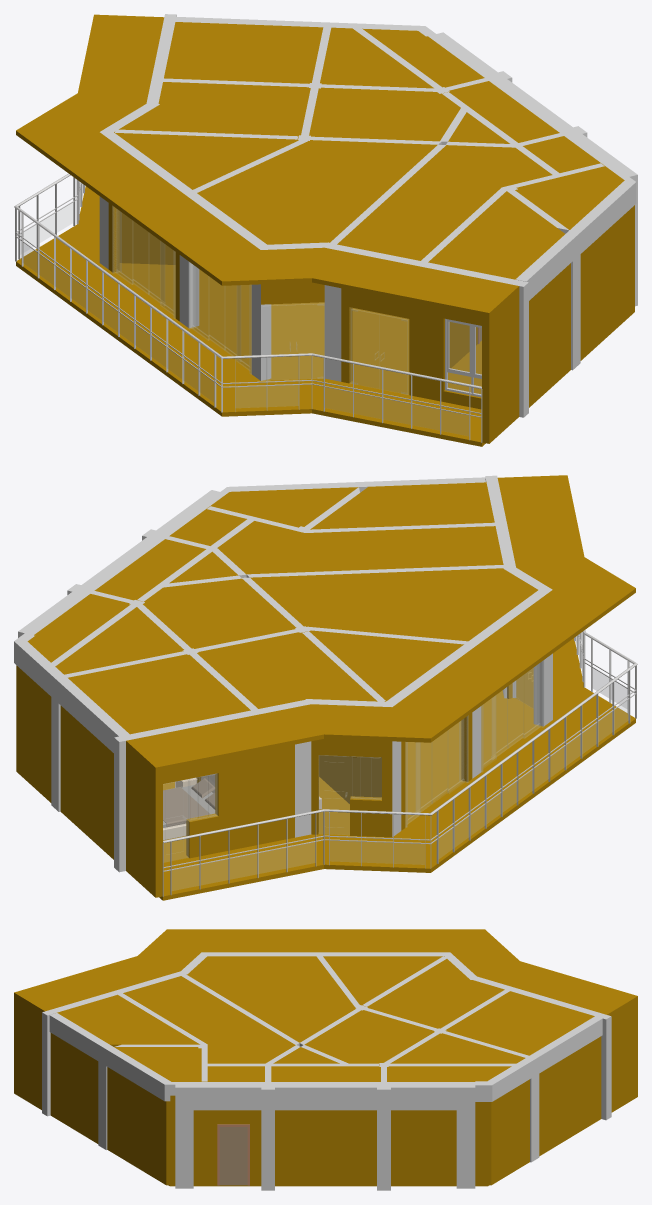
The picture shows the model from 3 angles, top to bottom: view 1: azimuth 30°, elevation 25°; view 2: azimuth 150°, elevation 25°; view 3: azimuth 270°, elevation 25°; orthographic projection. The views are drawn at different scales.
Parts seen in each view (by area): view 1: product-b208ef6b-4dae-42f1-b548-b29b8138902a-body, product-b208ef6b-4dae-42f1-b548-b29b8138904f-body, product-b208ef6b-4dae-42f1-b548-b29b81389031-body, product-b208ef6b-4dae-42f1-b548-b29b8138907d-body, product-b208ef6b-4dae-42f1-b548-b29b813890d6-body, product-b208ef6b-4dae-42f1-b548-b29b81389027-body, product-b208ef6b-4dae-42f1-b548-b29b8138905c-body, product-b208ef6b-4dae-42f1-b548-b29b81389042-body, product-b208ef6b-4dae-42f1-b548-b29b8138905f-body, product-b208ef6b-4dae-42f1-b548-b29b8138905d-body, product-b208ef6b-4dae-42f1-b548-b29b81389022-body, product-b208ef6b-4dae-42f1-b548-b29b81389023-body (+26 smaller); view 2: product-b208ef6b-4dae-42f1-b548-b29b8138902a-body, product-b208ef6b-4dae-42f1-b548-b29b8138904f-body, product-b208ef6b-4dae-42f1-b548-b29b81389031-body, product-b208ef6b-4dae-42f1-b548-b29b81389045-body, product-b208ef6b-4dae-42f1-b548-b29b81389047-body, product-b208ef6b-4dae-42f1-b548-b29b81389026-body, product-b208ef6b-4dae-42f1-b548-b29b81389022-body, product-b208ef6b-4dae-42f1-b548-b29b8138905f-body, product-b208ef6b-4dae-42f1-b548-b29b813890d7-body, product-b208ef6b-4dae-42f1-b548-b29b8138905e-body, product-b208ef6b-4dae-42f1-b548-b29b813890d1-body, product-b208ef6b-4dae-42f1-b548-b29b81389059-body (+27 smaller); view 3: product-b208ef6b-4dae-42f1-b548-b29b8138902a-body, product-b208ef6b-4dae-42f1-b548-b29b81389048-body, product-b208ef6b-4dae-42f1-b548-b29b81389047-body, product-b208ef6b-4dae-42f1-b548-b29b8138904b-body, product-b208ef6b-4dae-42f1-b548-b29b813890d6-body, product-b208ef6b-4dae-42f1-b548-b29b81389042-body, product-b208ef6b-4dae-42f1-b548-b29b81389043-body, product-b208ef6b-4dae-42f1-b548-b29b81389027-body, product-b208ef6b-4dae-42f1-b548-b29b8138908e-body, product-b208ef6b-4dae-42f1-b548-b29b813890d1-body, product-b208ef6b-4dae-42f1-b548-b29b81389026-body, product-b208ef6b-4dae-42f1-b548-b29b813890da-body (+27 smaller).
Boxes of the visible parts, x1,y1,x2,y2 form: product-b208ef6b-4dae-42f1-b548-b29b8138902a-body: (16, 18, 624, 315); product-b208ef6b-4dae-42f1-b548-b29b8138904f-body: (16, 186, 485, 446); product-b208ef6b-4dae-42f1-b548-b29b81389031-body: (14, 173, 482, 442); product-b208ef6b-4dae-42f1-b548-b29b8138907d-body: (341, 288, 481, 409); product-b208ef6b-4dae-42f1-b548-b29b813890d6-body: (580, 209, 630, 360); product-b208ef6b-4dae-42f1-b548-b29b81389027-body: (482, 284, 519, 443); product-b208ef6b-4dae-42f1-b548-b29b8138905c-body: (261, 302, 324, 380); product-b208ef6b-4dae-42f1-b548-b29b81389042-body: (529, 263, 570, 407); product-b208ef6b-4dae-42f1-b548-b29b8138905f-body: (188, 261, 251, 373); product-b208ef6b-4dae-42f1-b548-b29b8138905d-body: (350, 307, 408, 394); product-b208ef6b-4dae-42f1-b548-b29b81389022-body: (112, 206, 175, 318); product-b208ef6b-4dae-42f1-b548-b29b81389023-body: (445, 318, 481, 396); product-b208ef6b-4dae-42f1-b548-b29b8138902a-body: (27, 478, 635, 770); product-b208ef6b-4dae-42f1-b548-b29b8138904f-body: (159, 638, 635, 900); product-b208ef6b-4dae-42f1-b548-b29b81389031-body: (162, 630, 637, 896); product-b208ef6b-4dae-42f1-b548-b29b81389045-body: (163, 744, 294, 858); product-b208ef6b-4dae-42f1-b548-b29b81389047-body: (60, 705, 113, 859); product-b208ef6b-4dae-42f1-b548-b29b81389026-body: (126, 739, 162, 897); product-b208ef6b-4dae-42f1-b548-b29b81389022-body: (405, 715, 468, 827); product-b208ef6b-4dae-42f1-b548-b29b8138905f-body: (481, 660, 544, 771); product-b208ef6b-4dae-42f1-b548-b29b813890d7-body: (311, 739, 392, 837); product-b208ef6b-4dae-42f1-b548-b29b8138905e-body: (318, 755, 381, 834); product-b208ef6b-4dae-42f1-b548-b29b813890d1-body: (20, 669, 51, 802); product-b208ef6b-4dae-42f1-b548-b29b81389059-body: (163, 773, 217, 862); product-b208ef6b-4dae-42f1-b548-b29b8138902a-body: (19, 929, 632, 1081); product-b208ef6b-4dae-42f1-b548-b29b81389048-body: (275, 1110, 376, 1185); product-b208ef6b-4dae-42f1-b548-b29b81389047-body: (539, 1036, 601, 1156); product-b208ef6b-4dae-42f1-b548-b29b8138904b-body: (391, 1110, 456, 1185); product-b208ef6b-4dae-42f1-b548-b29b813890d6-body: (107, 1067, 161, 1182); product-b208ef6b-4dae-42f1-b548-b29b81389042-body: (50, 1033, 98, 1143); product-b208ef6b-4dae-42f1-b548-b29b81389043-body: (193, 1110, 261, 1185); product-b208ef6b-4dae-42f1-b548-b29b81389027-body: (14, 991, 49, 1109); product-b208ef6b-4dae-42f1-b548-b29b8138908e-body: (275, 1082, 376, 1110); product-b208ef6b-4dae-42f1-b548-b29b813890d1-body: (495, 1079, 529, 1182); product-b208ef6b-4dae-42f1-b548-b29b81389026-body: (602, 994, 637, 1112); product-b208ef6b-4dae-42f1-b548-b29b813890da-body: (456, 1082, 475, 1188).
Size of the model in its own units: 12.31 by 3.72 by 20.17.
